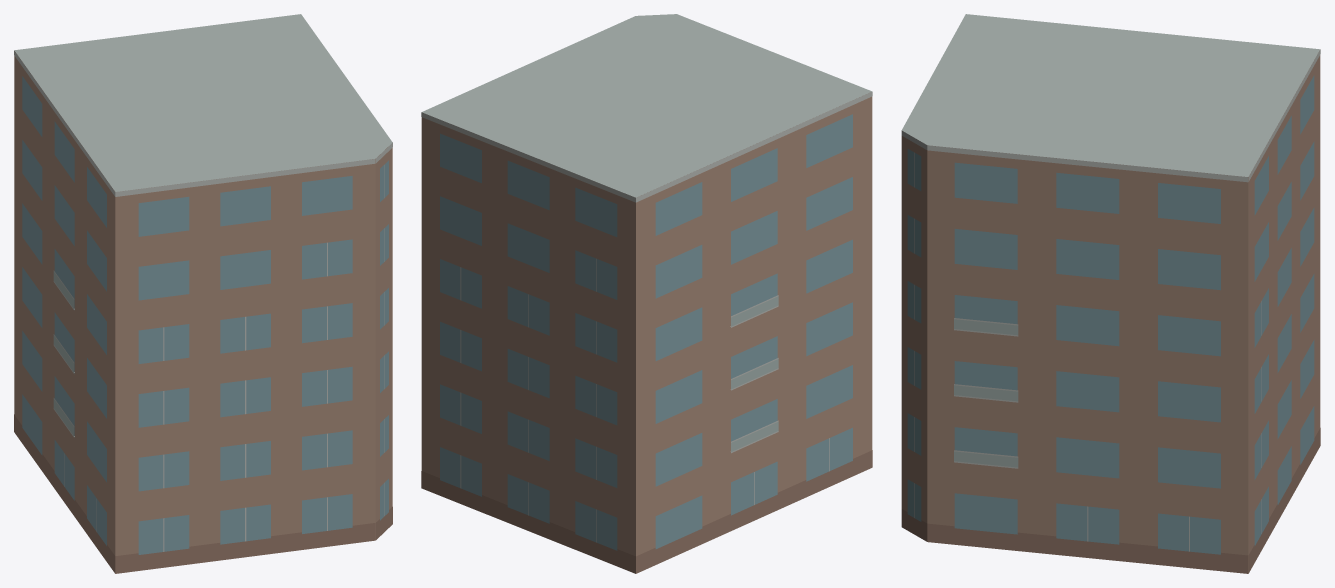
Rendered from survey-upis-32528117.glb.
3 renders of one model, left to right at view 1: azimuth 30°, elevation 25°; view 2: azimuth 150°, elevation 25°; view 3: azimuth 270°, elevation 25°, orthographic. The views are drawn at different scales.
Parts seen in each view (by area): view 1: survey-upis-32528117.tmp; view 2: survey-upis-32528117.tmp; view 3: survey-upis-32528117.tmp.
Boxes of the visible parts, <box> form: survey-upis-32528117.tmp: <box>14,14,392,573</box>; survey-upis-32528117.tmp: <box>421,14,872,573</box>; survey-upis-32528117.tmp: <box>901,14,1320,573</box>.
Bounding box in the file's own units: 16.5 × 18.7 × 17.9.
